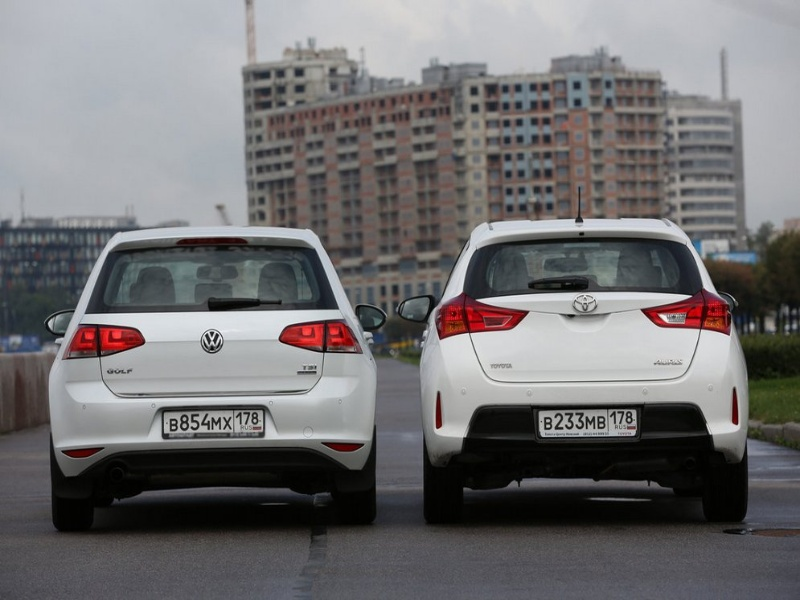car: (396, 216, 750, 527), (43, 227, 387, 523)
plate: (162, 407, 263, 437), (538, 409, 636, 435)
